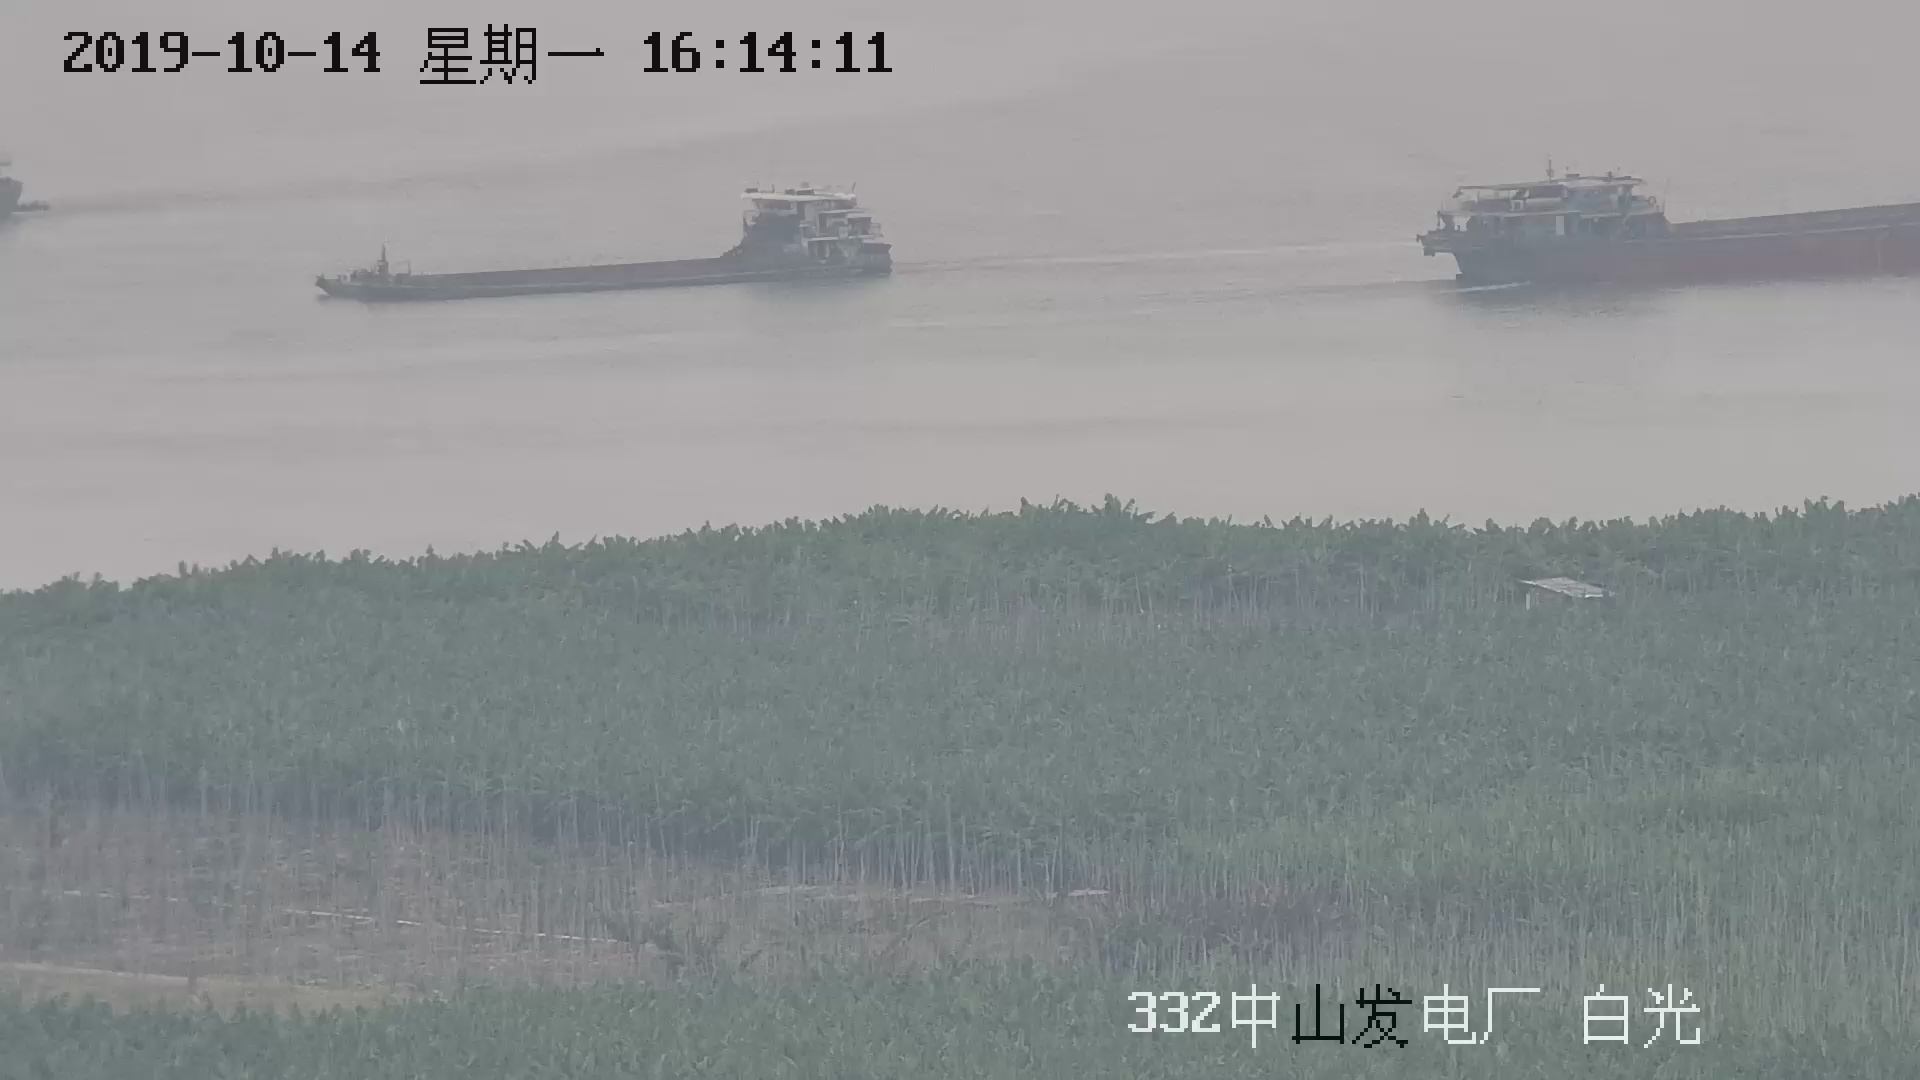ship: (316, 185, 894, 302), (1418, 160, 1920, 282)
